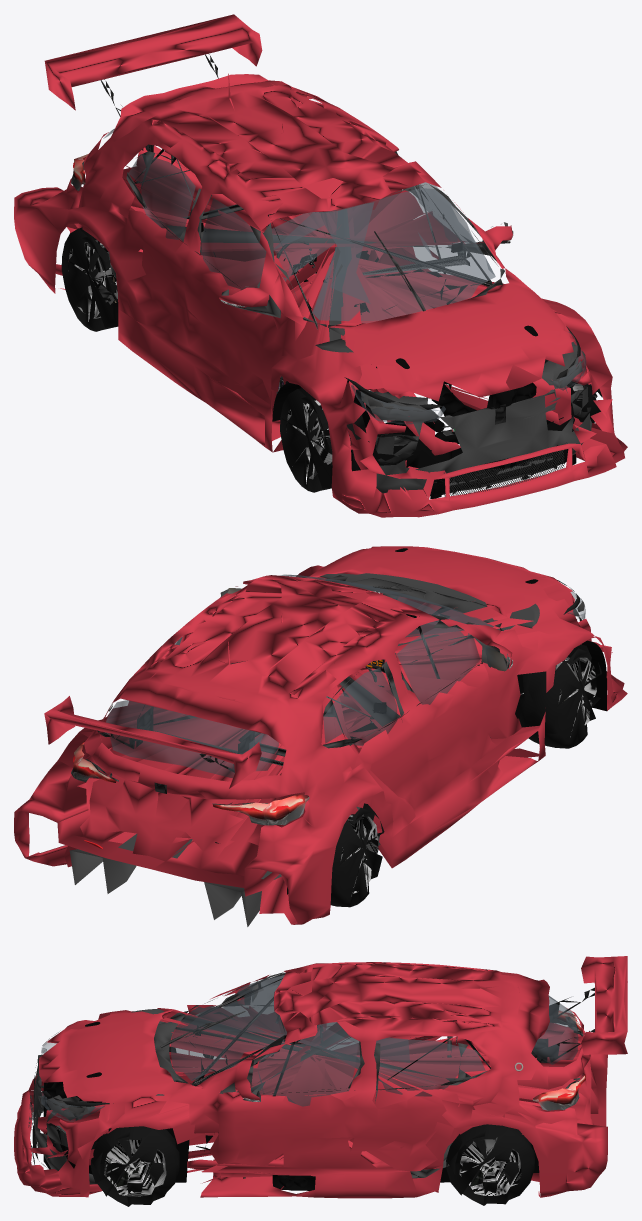
File: fiat_pulse_l2.glb
3 views of the same model, one above another, from view 1: azimuth 30°, elevation 25°; view 2: azimuth 150°, elevation 25°; view 3: azimuth 270°, elevation 25° (orthographic). The views are drawn at different scales.
Visible parts, largest first — view 1: body, spin (×2); view 2: body, spin (×2); view 3: body, spin (×2).
Part boxes in pixels (x1,y1,x2,y2): body: [14, 14, 627, 517]; spin (×2): [61, 227, 366, 492]; body: [14, 546, 627, 926]; spin (×2): [330, 644, 602, 907]; body: [14, 956, 627, 1198]; spin (×2): [91, 1124, 534, 1206].
Size of the model in its own units: 1.98 by 1.48 by 4.44.
Materials: 49 (45 with a texture image).
